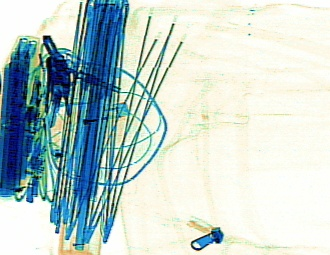lighter: (46, 100, 130, 132)
powerbank: (0, 34, 41, 198)
